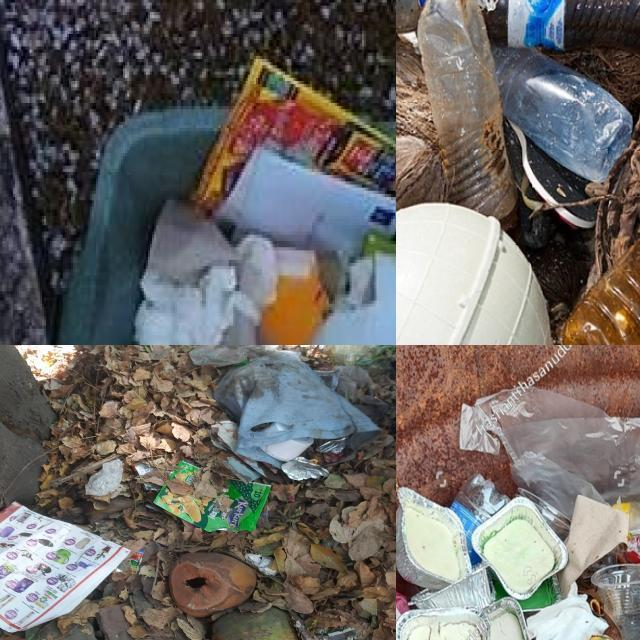Garbage: (0, 345, 396, 640), (396, 0, 640, 345), (129, 51, 396, 345)
Plastic: (396, 203, 550, 345), (260, 438, 314, 462)
Plastic_Bag: (335, 366, 389, 422), (325, 345, 396, 381)
Plastic_bottle: (418, 0, 516, 229), (493, 44, 632, 182), (479, 0, 640, 53), (563, 240, 640, 345)
Plastic_wraper: (193, 57, 396, 212), (154, 480, 270, 532), (189, 345, 279, 366), (281, 457, 329, 480), (135, 463, 166, 491), (170, 462, 197, 482), (316, 438, 347, 454)
